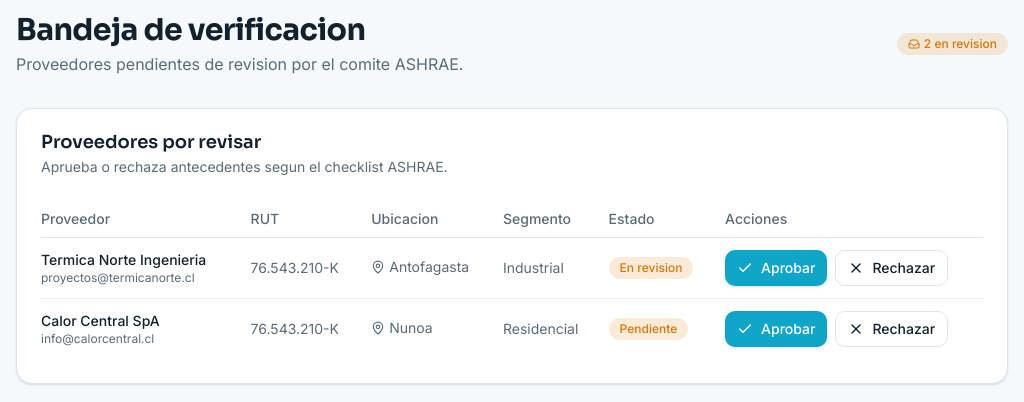
AdminVerificationTable › aprobar resuelve el proveedor y descuenta el contador
What coordinates should you click on to do the following:
click the button "Aprobar" in the row of "Termica Norte Ingenieria"
I would click on:
 (776, 268)
Its box is 725,250 -> 827,286.
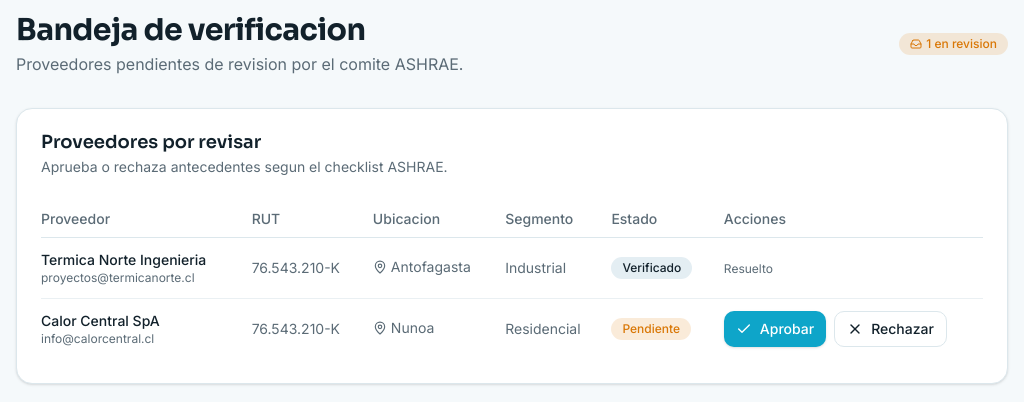
Expected: the text "1 en revision" is shown, 899,33 -> 1008,55
Expected: the number of buttons "Aprobar" is 1, 724,311 -> 826,347
Expected: the text "Resuelto" is shown, 724,261 -> 773,276
